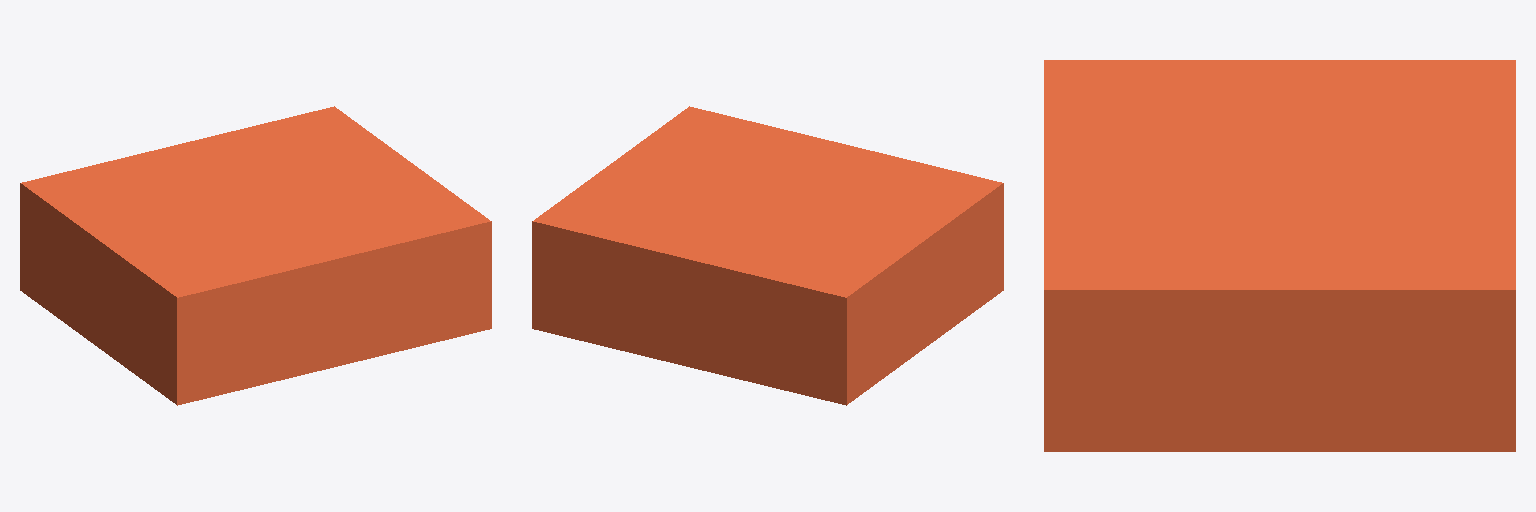
URDF robot description (myfirst):
<?xml version="1.0"?>
 <robot name="myfirst">
   <material name="red">
     <color rgba="1 0.498 0.3137 1"/>
   </material>
   <material name="green">
     <color rgba="0 1 0.498 1"/>
   </material>
   <link name="right_leg">
     <visual>
       <geometry>
         <box size="0.0851 0.0737 0.0279"/>
       </geometry>
       <material name="red"/>
     </visual>
     <collision>
       <geometry>
         <box size="0.0851 0.0737 0.0279"/>
       </geometry>
     </collision>
     <inertial>
       <mass value="1"/>
       <inertia ixx="1.0" ixy="0.0" ixz="0.0" iyy="1.0" iyz="0.0" izz="1.0"/>
     </inertial>
   </link>
 </robot>

--- What the picture shows (computed from the rendered views, not written in the file) ---
The picture shows the robot from 3 angles, left to right: view 1: azimuth 30°, elevation 25°; view 2: azimuth 150°, elevation 25°; view 3: azimuth 270°, elevation 25°; orthographic projection.
Model myfirst with 1 links and 0 joints (none), rooted at right_leg, posed every joint at zero.
Visible links, largest first — view 1: right_leg; view 2: right_leg; view 3: right_leg.
Link boxes in pixels (left/top/right/bottom): right_leg: left=20, top=106, right=491, bottom=405; right_leg: left=532, top=106, right=1003, bottom=405; right_leg: left=1044, top=60, right=1515, bottom=451.
Bounding box of the posed robot: 0.0851 × 0.0737 × 0.0279 m (x, y, z).
Geometry: primitives only (box / cylinder / sphere), no mesh files.